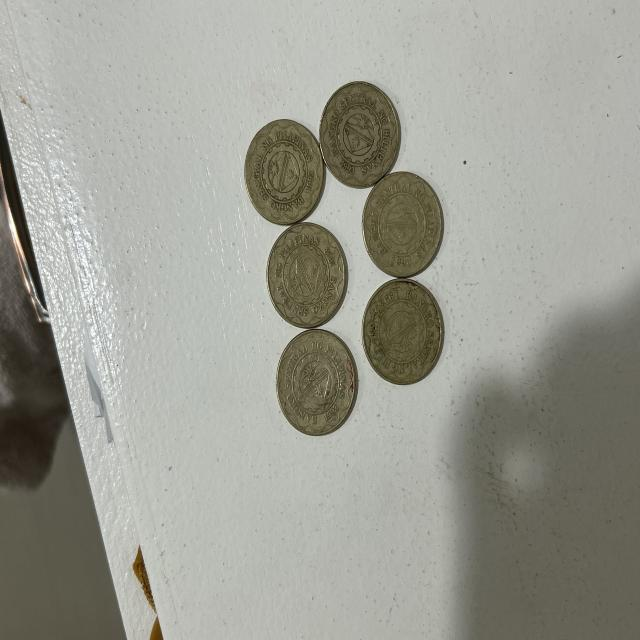5_Old_Back: (354, 273, 444, 396), (320, 76, 403, 191), (272, 328, 352, 442), (247, 118, 326, 230), (363, 173, 447, 274), (266, 224, 351, 322)
